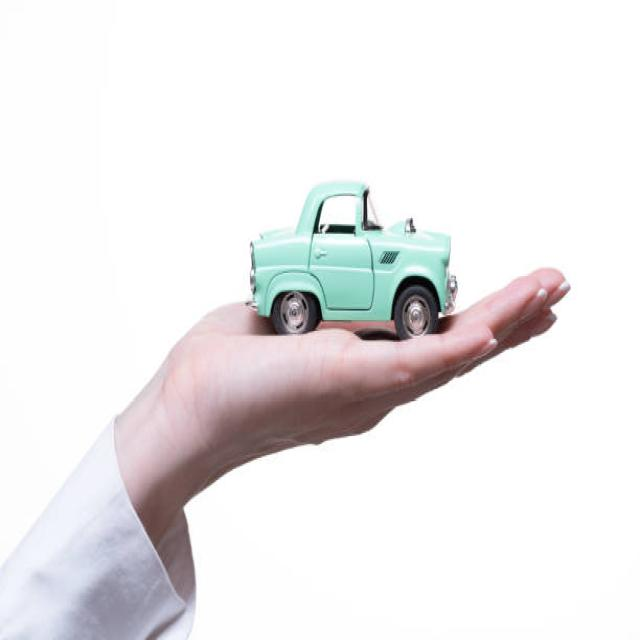Car: (247, 179, 458, 340)
